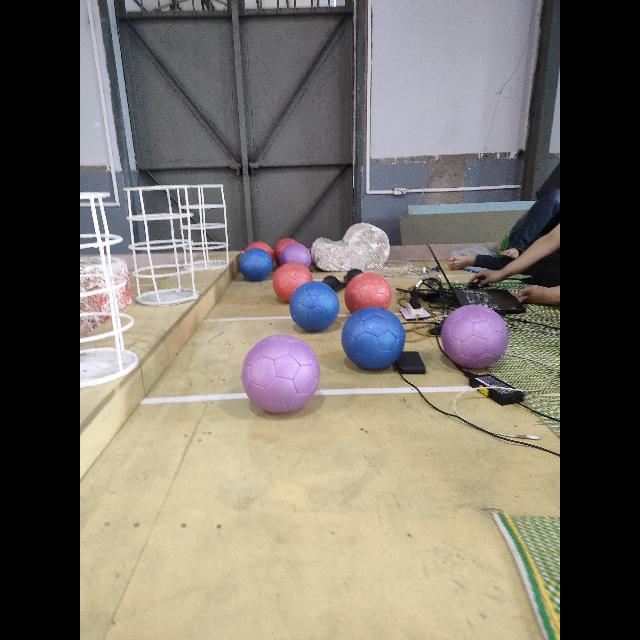B: (342, 307, 404, 369), (290, 281, 338, 331), (240, 248, 272, 282)
P: (241, 334, 319, 412), (442, 304, 508, 368), (279, 242, 311, 268)
R: (344, 272, 390, 312), (273, 262, 313, 302), (246, 240, 274, 258)
S: (80, 190, 138, 386), (130, 186, 193, 316), (173, 182, 233, 278)
